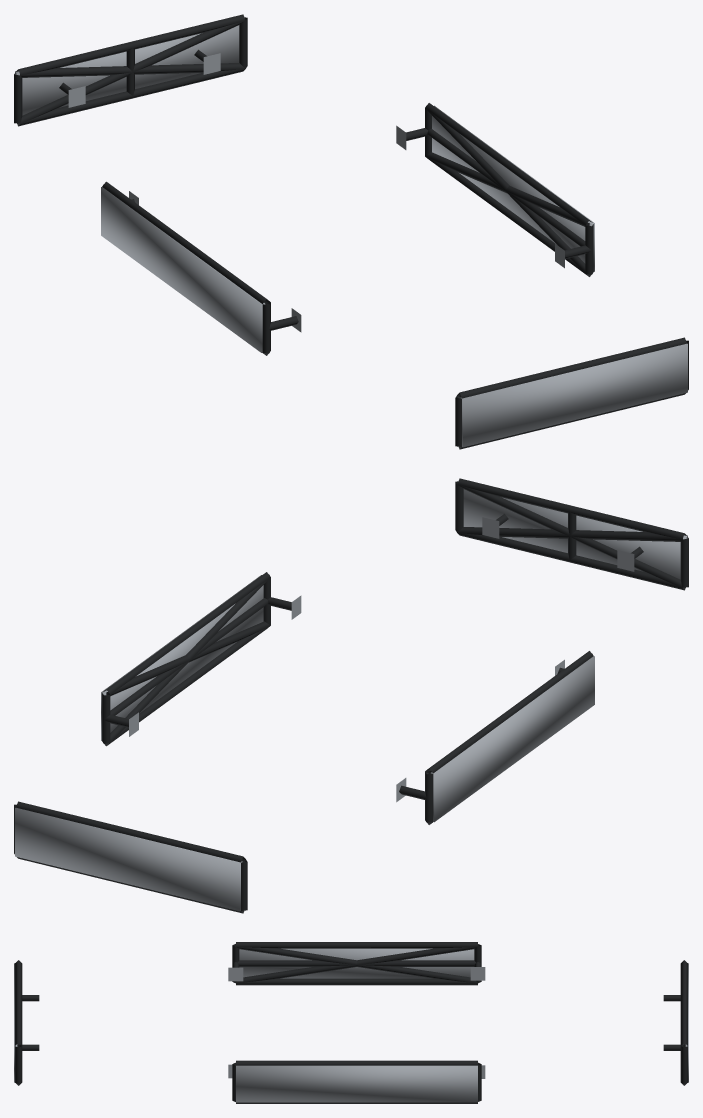
Rendered from lindauer_margem_protecao.glb.
3 renders of one model, top to bottom at view 1: azimuth 30°, elevation 25°; view 2: azimuth 150°, elevation 25°; view 3: azimuth 270°, elevation 25°, orthographic. The views are drawn at different scales.
Parts seen in each view (by area): view 1: Protection_front_Level3_Details, Protection_left_Level3_Details, Protection_rear_Level1_Details, Protection_rear_Level3_Details, Protection_right_Level1_Details, Protection_right_Level2_Details, Protection_rear_Level2_Details, Protection_right_Level3_Details, Protection_front_Level1_Details, Protection_left_Level1_Details; view 2: Protection_rear_Level3_Details, Protection_left_Level3_Details, Protection_front_Level1_Details, Protection_front_Level3_Details, Protection_right_Level1_Details, Protection_front_Level2_Details, Protection_right_Level2_Details, Protection_right_Level3_Details, Protection_rear_Level1_Details, Protection_left_Level1_Details; view 3: Protection_right_Level3_Details, Protection_left_Level2_Details, Protection_left_Level1_Details, Protection_left_Level3_Details, Protection_right_Level1_Details, Protection_rear_Level1_Details, Protection_front_Level1_Details.
Part boxes in pixels (<box>): Protection_front_Level3_Details: <box>460,343,687,447</box>; Protection_left_Level3_Details: <box>101,187,265,352</box>; Protection_rear_Level1_Details: <box>14,14,247,126</box>; Protection_rear_Level3_Details: <box>15,25,239,115</box>; Protection_right_Level1_Details: <box>396,103,593,276</box>; Protection_right_Level2_Details: <box>425,108,592,276</box>; Protection_rear_Level2_Details: <box>16,21,245,125</box>; Protection_right_Level3_Details: <box>432,105,594,271</box>; Protection_front_Level1_Details: <box>455,337,688,449</box>; Protection_left_Level1_Details: <box>102,181,301,355</box>; Protection_rear_Level3_Details: <box>15,807,242,911</box>; Protection_left_Level3_Details: <box>430,656,594,822</box>; Protection_front_Level1_Details: <box>455,478,688,590</box>; Protection_front_Level3_Details: <box>463,489,687,579</box>; Protection_right_Level1_Details: <box>102,572,301,746</box>; Protection_front_Level2_Details: <box>457,485,686,589</box>; Protection_right_Level2_Details: <box>103,578,270,745</box>; Protection_right_Level3_Details: <box>101,575,263,740</box>; Protection_rear_Level1_Details: <box>14,801,247,913</box>; Protection_left_Level1_Details: <box>396,651,593,824</box>; Protection_right_Level3_Details: <box>236,1065,477,1102</box>; Protection_left_Level2_Details: <box>235,944,478,983</box>; Protection_left_Level1_Details: <box>228,942,485,985</box>; Protection_left_Level3_Details: <box>239,948,474,978</box>; Protection_right_Level1_Details: <box>228,1060,485,1103</box>; Protection_rear_Level1_Details: <box>663,960,687,1085</box>; Protection_front_Level1_Details: <box>15,960,39,1085</box>.
Bounding box in the file's own units: 2.16 × 0.354 × 5.02.
Materials: 1 (1 with a texture image).
